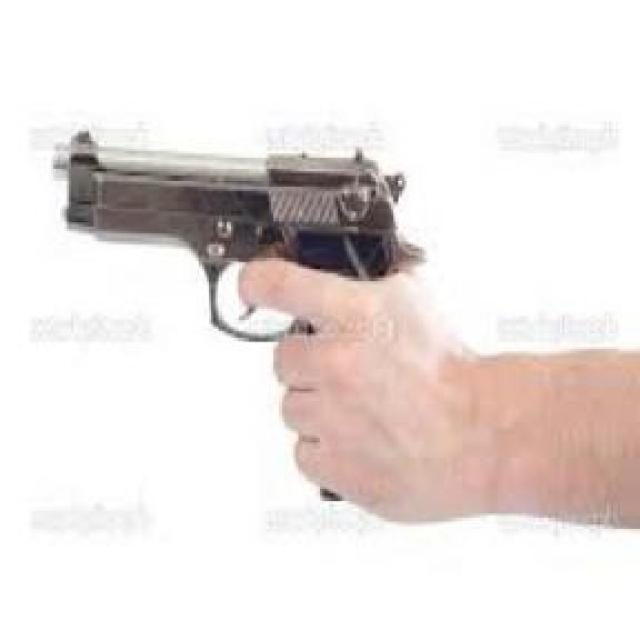pistol: (48, 133, 418, 506)
